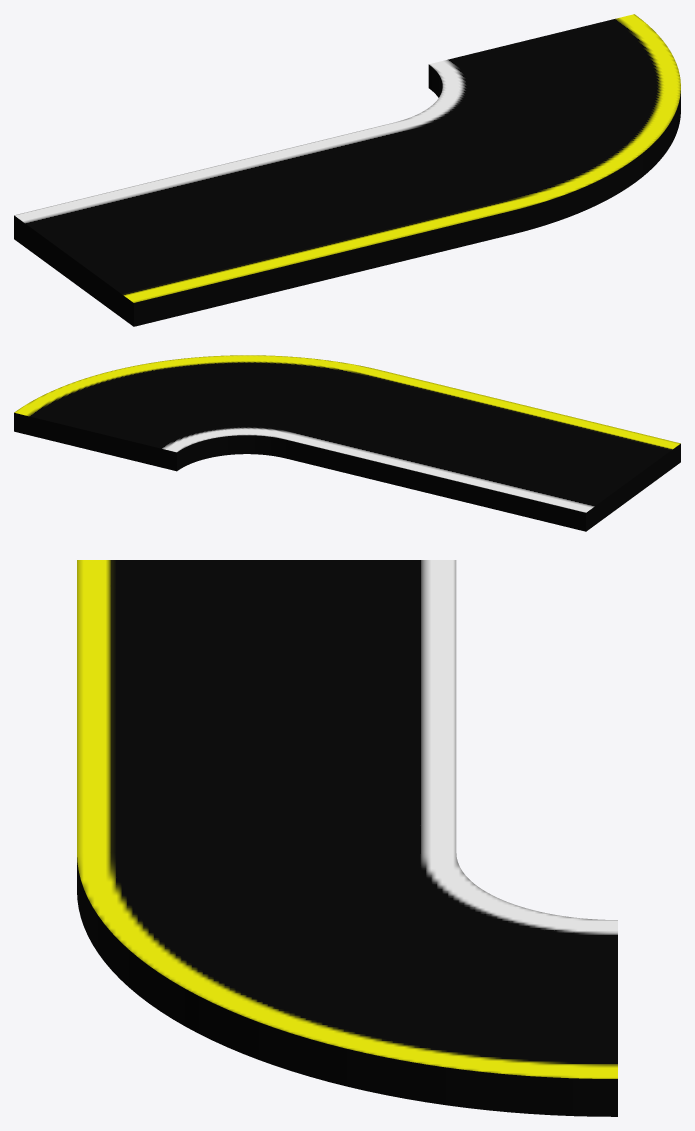
The model's file is Panel_R03_C02__Road_00.dae.
3 views of the same model, one above another, from view 1: azimuth 30°, elevation 25°; view 2: azimuth 150°, elevation 25°; view 3: azimuth 270°, elevation 25° (orthographic). The views are drawn at different scales.
Visible parts, largest first — view 1: Object; view 2: Object; view 3: Object.
Part boxes in pixels (x1,y1,x2,y2): Object: (14,14,680,326); Object: (14,355,680,531); Object: (77,560,617,1116).
Bounding box in the file's own units: 0.8833 × 0.3892 × 0.03.
Materials: 2 (1 with a texture image).
